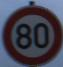Speed Limit -80-: (0, 0, 62, 66)
